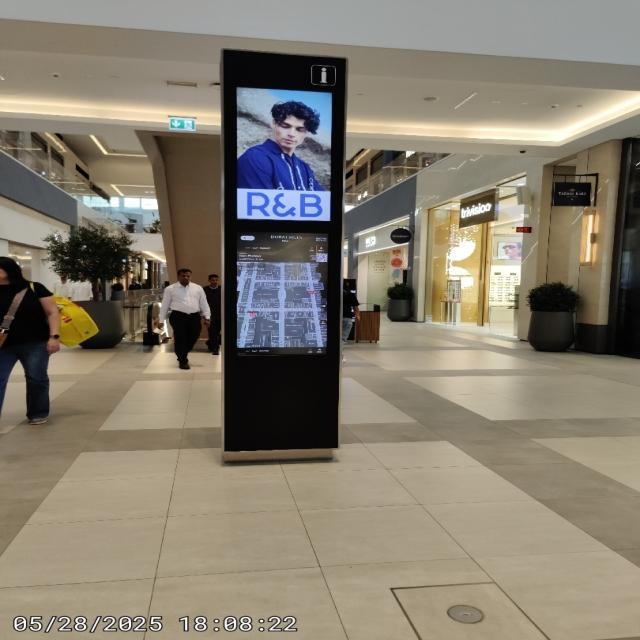mupi: (222, 49, 346, 455)
